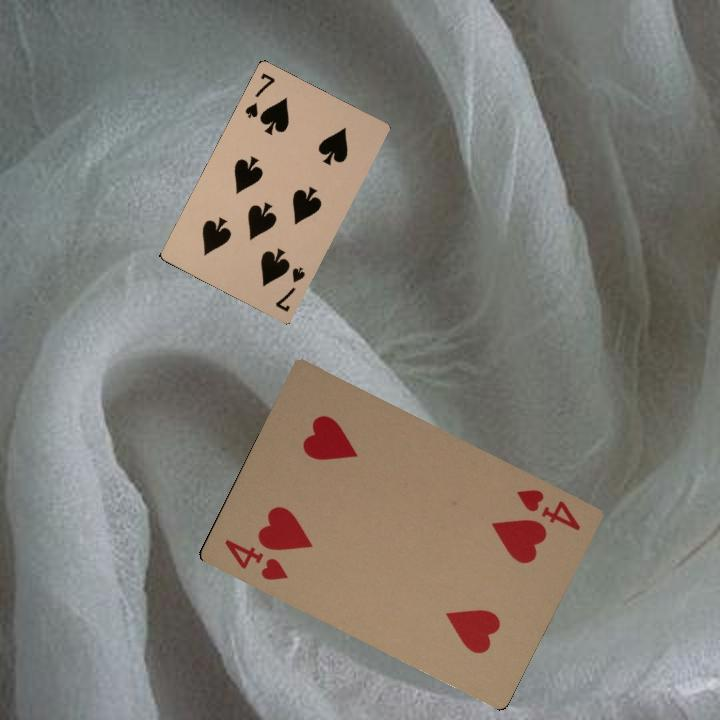4h: (512, 485, 583, 533), (221, 535, 290, 583)
7s: (271, 263, 308, 314), (241, 69, 277, 121)
